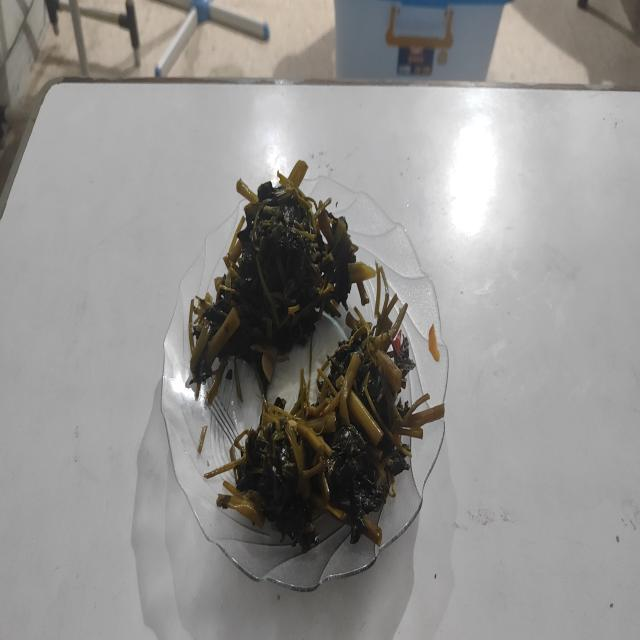tumis_kangkung: (234, 295, 428, 544), (189, 161, 358, 400)
